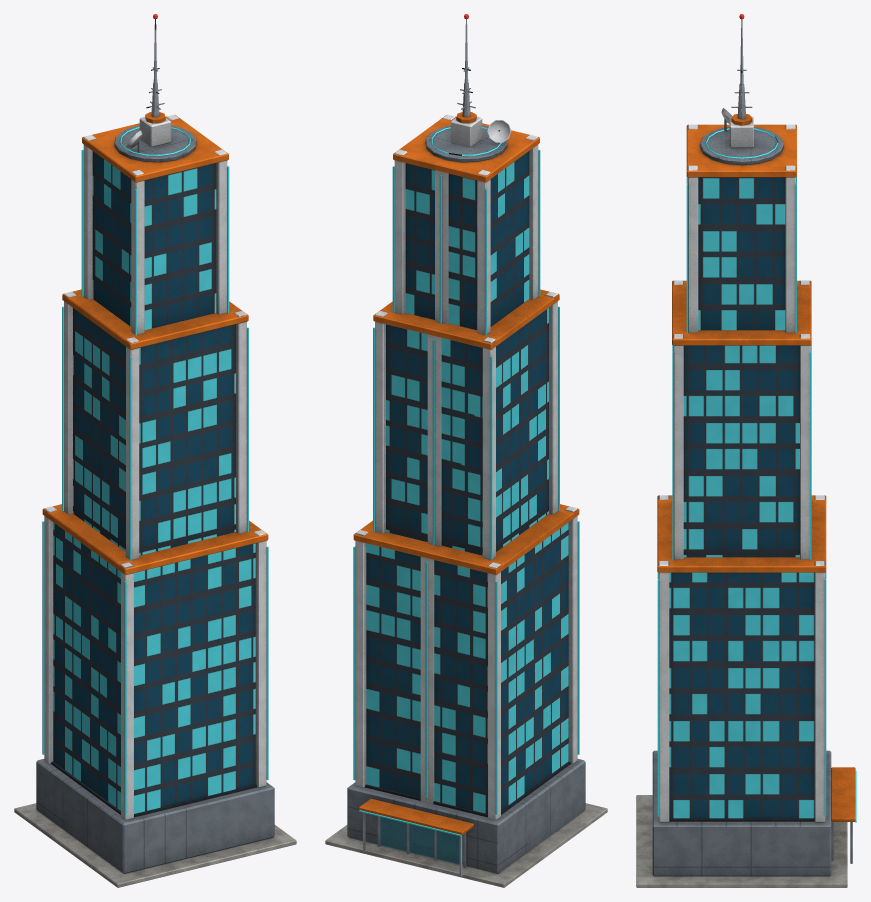
File: torre_oficinas.fbx
3 renders of one model, left to right at view 1: azimuth 30°, elevation 25°; view 2: azimuth 150°, elevation 25°; view 3: azimuth 270°, elevation 25°, orthographic.
Parts seen in each view (by area): view 1: torre_oficinas, torre_oficinas_neon; view 2: torre_oficinas, torre_oficinas_neon, torre_oficinas_cristal; view 3: torre_oficinas, torre_oficinas_neon.
Part boxes in pixels (x1,y1,x2,y2): torre_oficinas: [14, 19, 296, 887]; torre_oficinas_neon: [42, 127, 268, 814]; torre_oficinas: [325, 19, 607, 887]; torre_oficinas_neon: [353, 127, 579, 836]; torre_oficinas_cristal: [380, 817, 463, 865]; torre_oficinas: [636, 19, 855, 887]; torre_oficinas_neon: [657, 128, 856, 822].
Bounding box in the file's own units: 26 × 113 × 27.13.
Materials: 3 (3 with a texture image).
